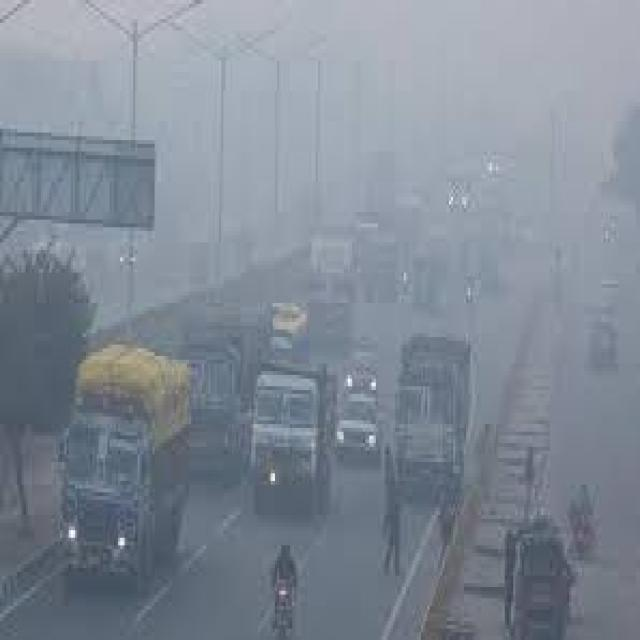moderate_traffic: (74, 163, 490, 640)
